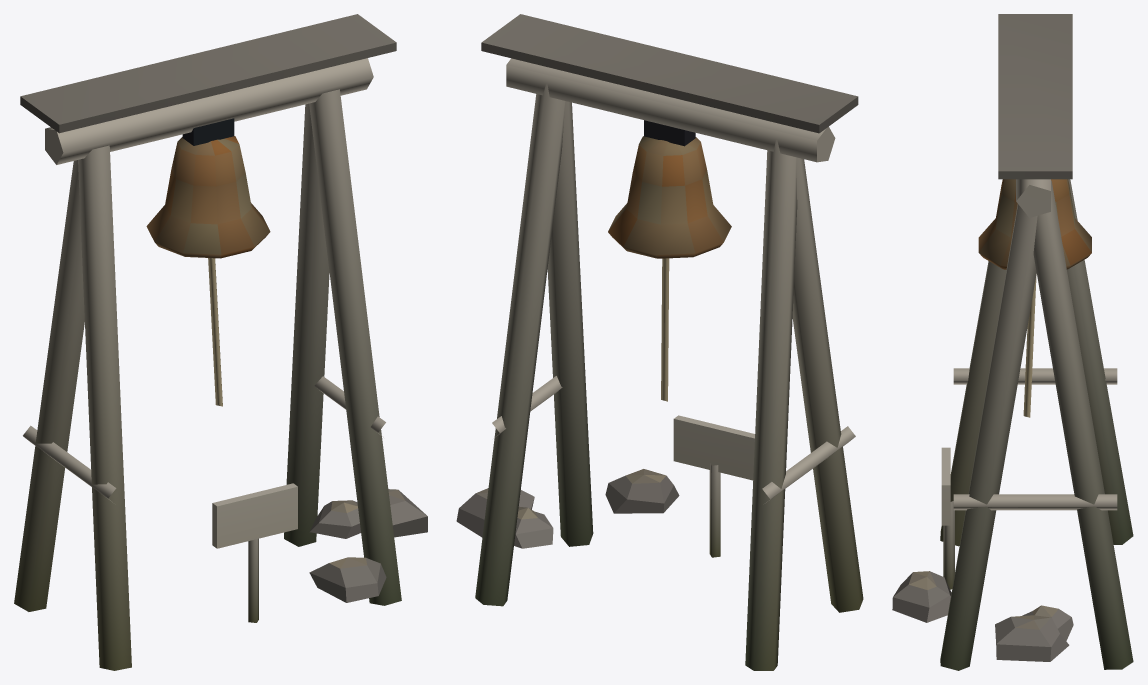
Rendered from wreck_cove_bell.glb.
3 views of the same model, side by side, from view 1: azimuth 30°, elevation 25°; view 2: azimuth 150°, elevation 25°; view 3: azimuth 270°, elevation 25° (orthographic). The views are drawn at different scales.
Visible parts, largest first — view 1: body, bell; view 2: body, bell; view 3: body, bell.
Part boxes in pixels (x1,y1,x2,y2): body: [14, 14, 427, 670]; bell: [146, 118, 270, 406]; body: [456, 14, 863, 670]; bell: [608, 120, 731, 401]; body: [892, 14, 1133, 670]; bell: [978, 179, 1091, 417].
Size of the model in its own units: 2.77 by 3.79 by 1.62.
